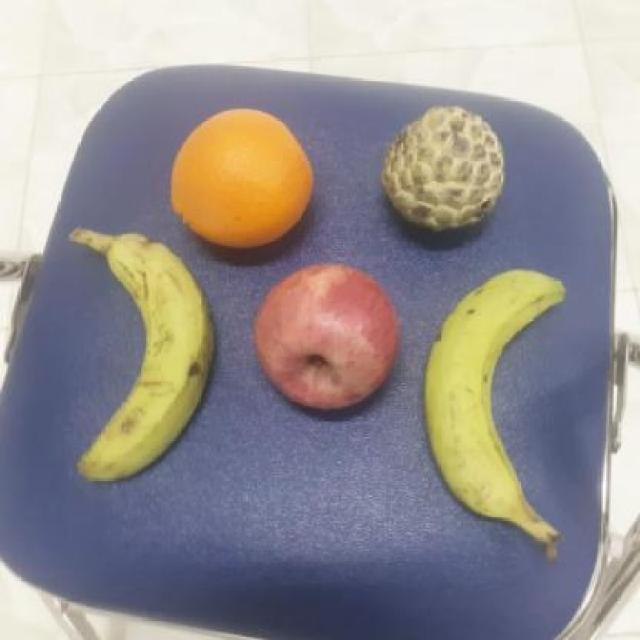apple: (253, 261, 402, 410)
banana: (422, 266, 573, 525), (68, 229, 218, 486)
oren: (169, 105, 317, 249)
sugar apple: (379, 103, 507, 234)
